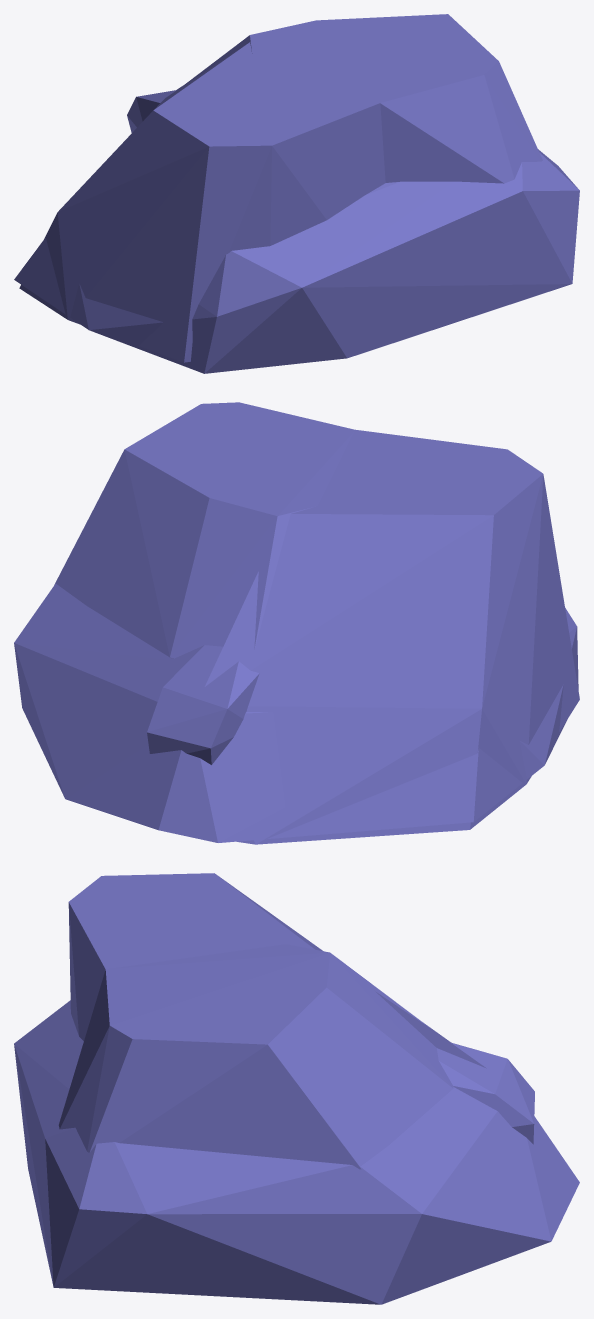
The model's file is Cliff_Sediment_02_Slope_Collider_01.FBX.
The picture shows the model from 3 angles, top to bottom: view 1: azimuth 30°, elevation 25°; view 2: azimuth 150°, elevation 25°; view 3: azimuth 270°, elevation 25°; orthographic projection. The views are drawn at different scales.
Parts seen in each view (by area): view 1: COLLIDER1, COLLIDER3, COLLIDER2, COLLIDER4; view 2: COLLIDER1, COLLIDER3, COLLIDER2, COLLIDER4; view 3: COLLIDER3, COLLIDER2, COLLIDER1, COLLIDER4.
Part boxes in pixels (x1=…): COLLIDER1: x1=19, y1=42, x2=385, y2=362; COLLIDER3: x1=14, y1=149, x2=579, y2=373; COLLIDER2: x1=178, y1=14, x2=542, y2=183; COLLIDER4: x1=127, y1=90, x2=176, y2=132; COLLIDER1: x1=205, y1=429, x2=579, y2=844; COLLIDER3: x1=14, y1=583, x2=578, y2=842; COLLIDER2: x1=54, y1=402, x2=354, y2=658; COLLIDER4: x1=147, y1=645, x2=259, y2=764; COLLIDER3: x1=14, y1=1000, x2=579, y2=1304; COLLIDER2: x1=58, y1=944, x2=453, y2=1169; COLLIDER1: x1=68, y1=873, x2=486, y2=1068; COLLIDER4: x1=437, y1=1042, x2=534, y2=1144.
Size of the model in its own units: 478 by 235 by 486.
